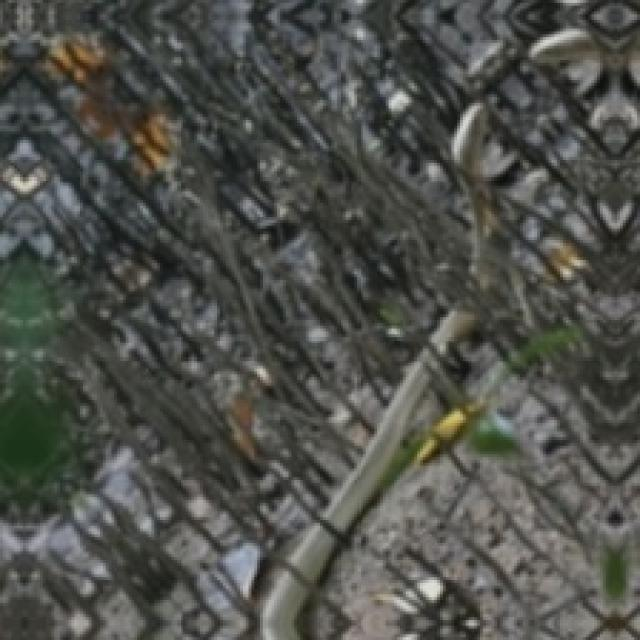king cobra: (261, 309, 476, 639), (451, 101, 490, 289), (531, 29, 601, 68)
